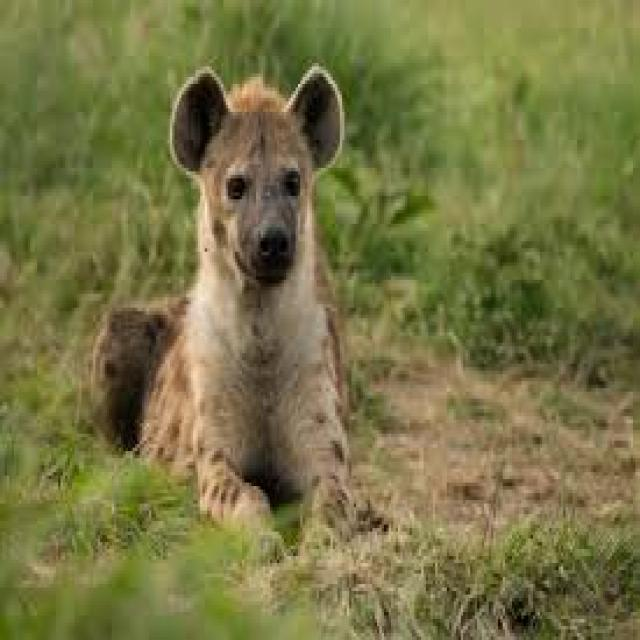Hyena: (132, 50, 354, 554)
